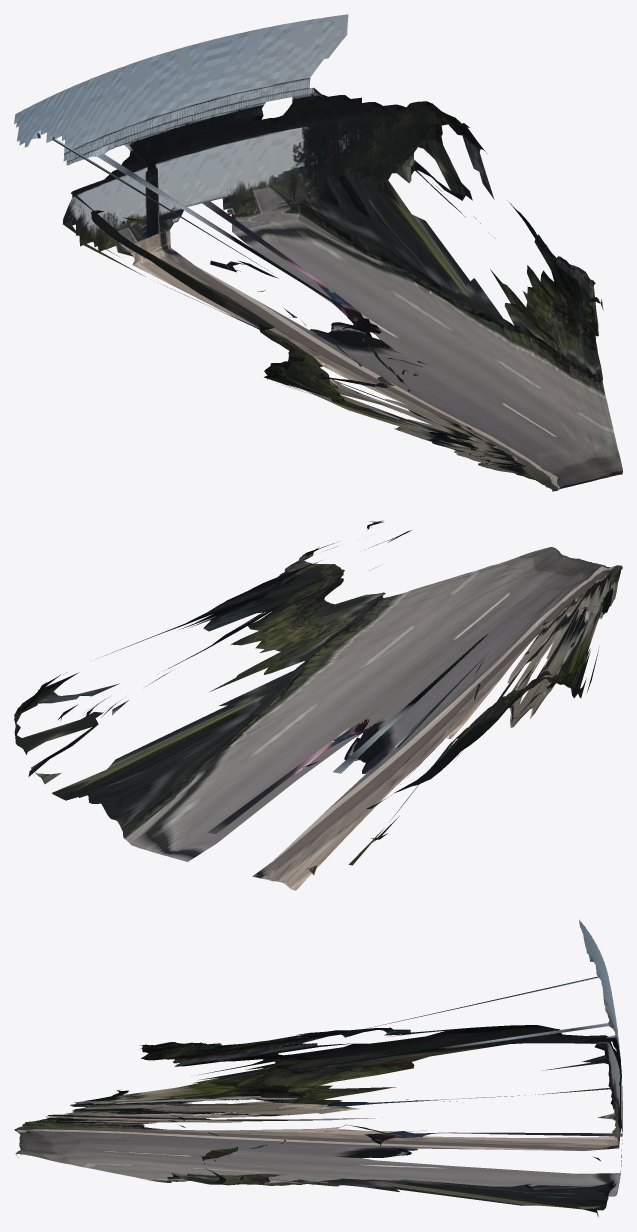
3 views of the same model, one above another, from view 1: azimuth 30°, elevation 25°; view 2: azimuth 150°, elevation 25°; view 3: azimuth 270°, elevation 25° (orthographic). The views are drawn at different scales.
Visible parts, largest first — view 1: defaultobject; view 2: defaultobject; view 3: defaultobject.
Part boxes in pixels (x1,y1,x2,y2): defaultobject: (14,14,622,491); defaultobject: (14,520,622,890); defaultobject: (14,919,622,1216).
Size of the model in its own units: 29.77 by 13.59 by 44.59.
1 material, 1 textured.
